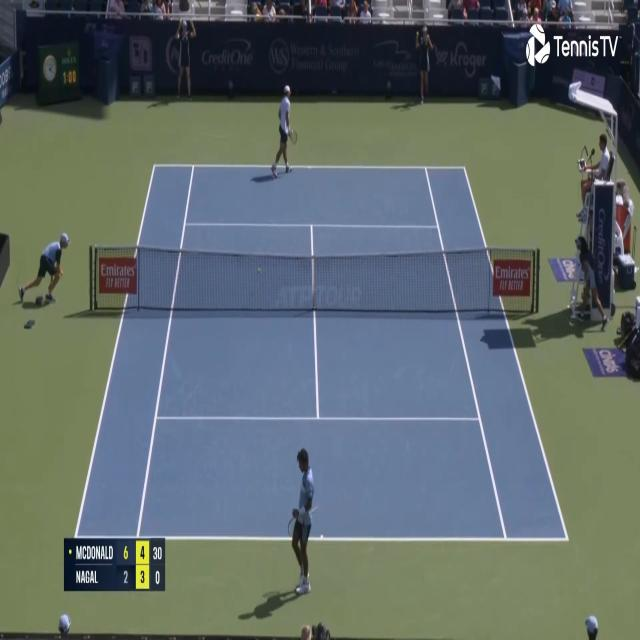tennis-player: (286, 444, 317, 602), (269, 83, 297, 181)
